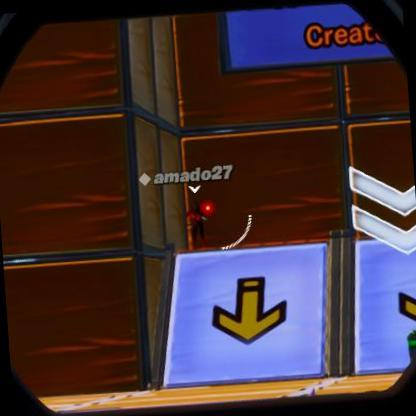person: (190, 206, 212, 250)
